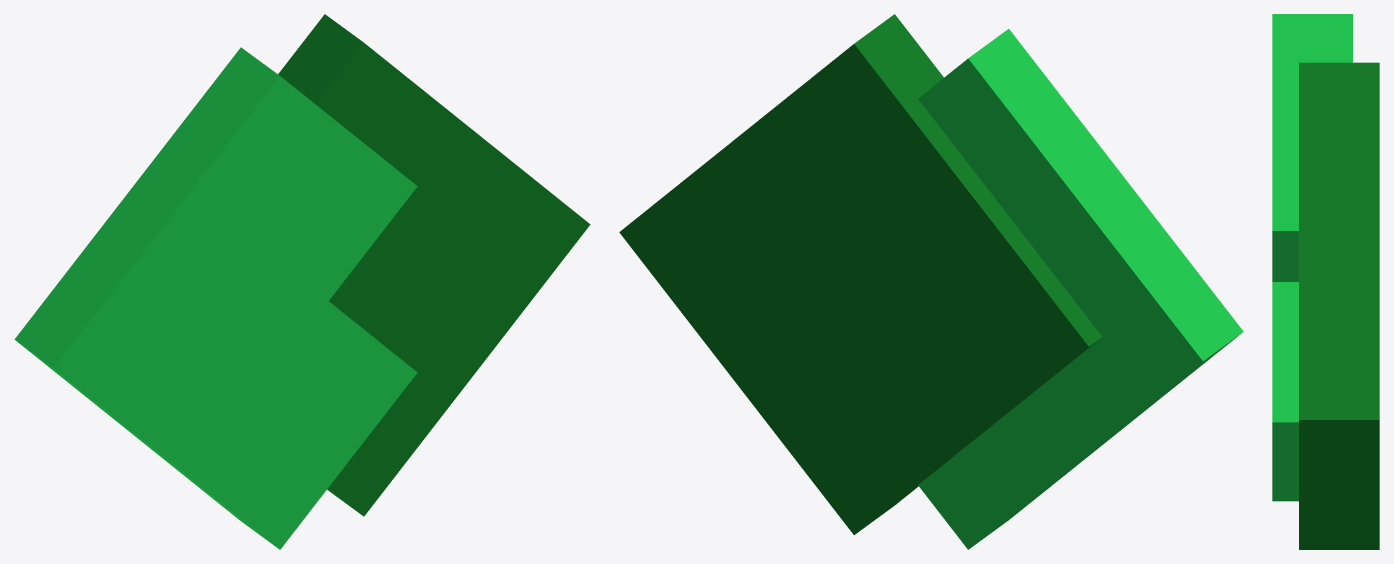
Rendered from clapNote_original.fbx.
3 views of the same model, side by side, from view 1: azimuth 30°, elevation 25°; view 2: azimuth 150°, elevation 25°; view 3: azimuth 270°, elevation 25° (orthographic). The views are drawn at different scales.
Visible parts, largest first — view 1: Cube; view 2: Cube; view 3: Cube.
Part boxes in pixels (<box>): Cube: <box>14,14,590,549</box>; Cube: <box>619,14,1243,549</box>; Cube: <box>1272,14,1379,549</box>.
Size of the model in its own units: 243 by 200 by 40.
Materials: 1 (1 with a texture image).
